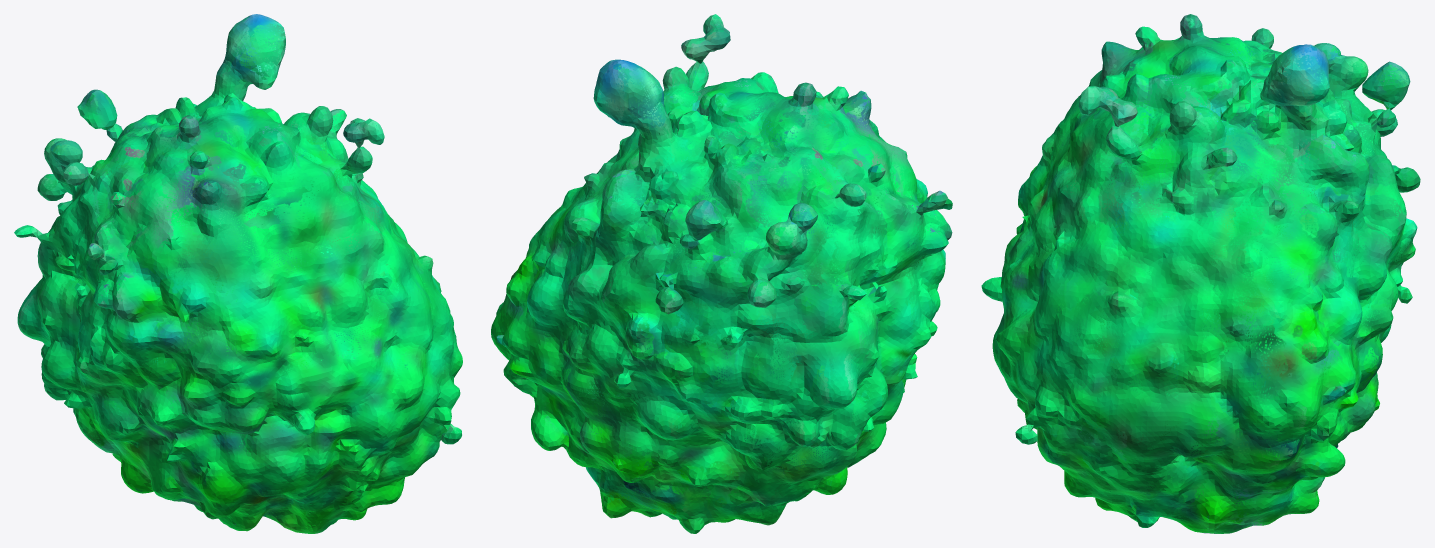
The model's file is underwater.glb.
3 views of the same model, side by side, from view 1: azimuth 30°, elevation 25°; view 2: azimuth 150°, elevation 25°; view 3: azimuth 270°, elevation 25° (orthographic). The views are drawn at different scales.
Size of the model in its own units: 1.27 by 1.51 by 1.23.
1 material, 1 textured.
